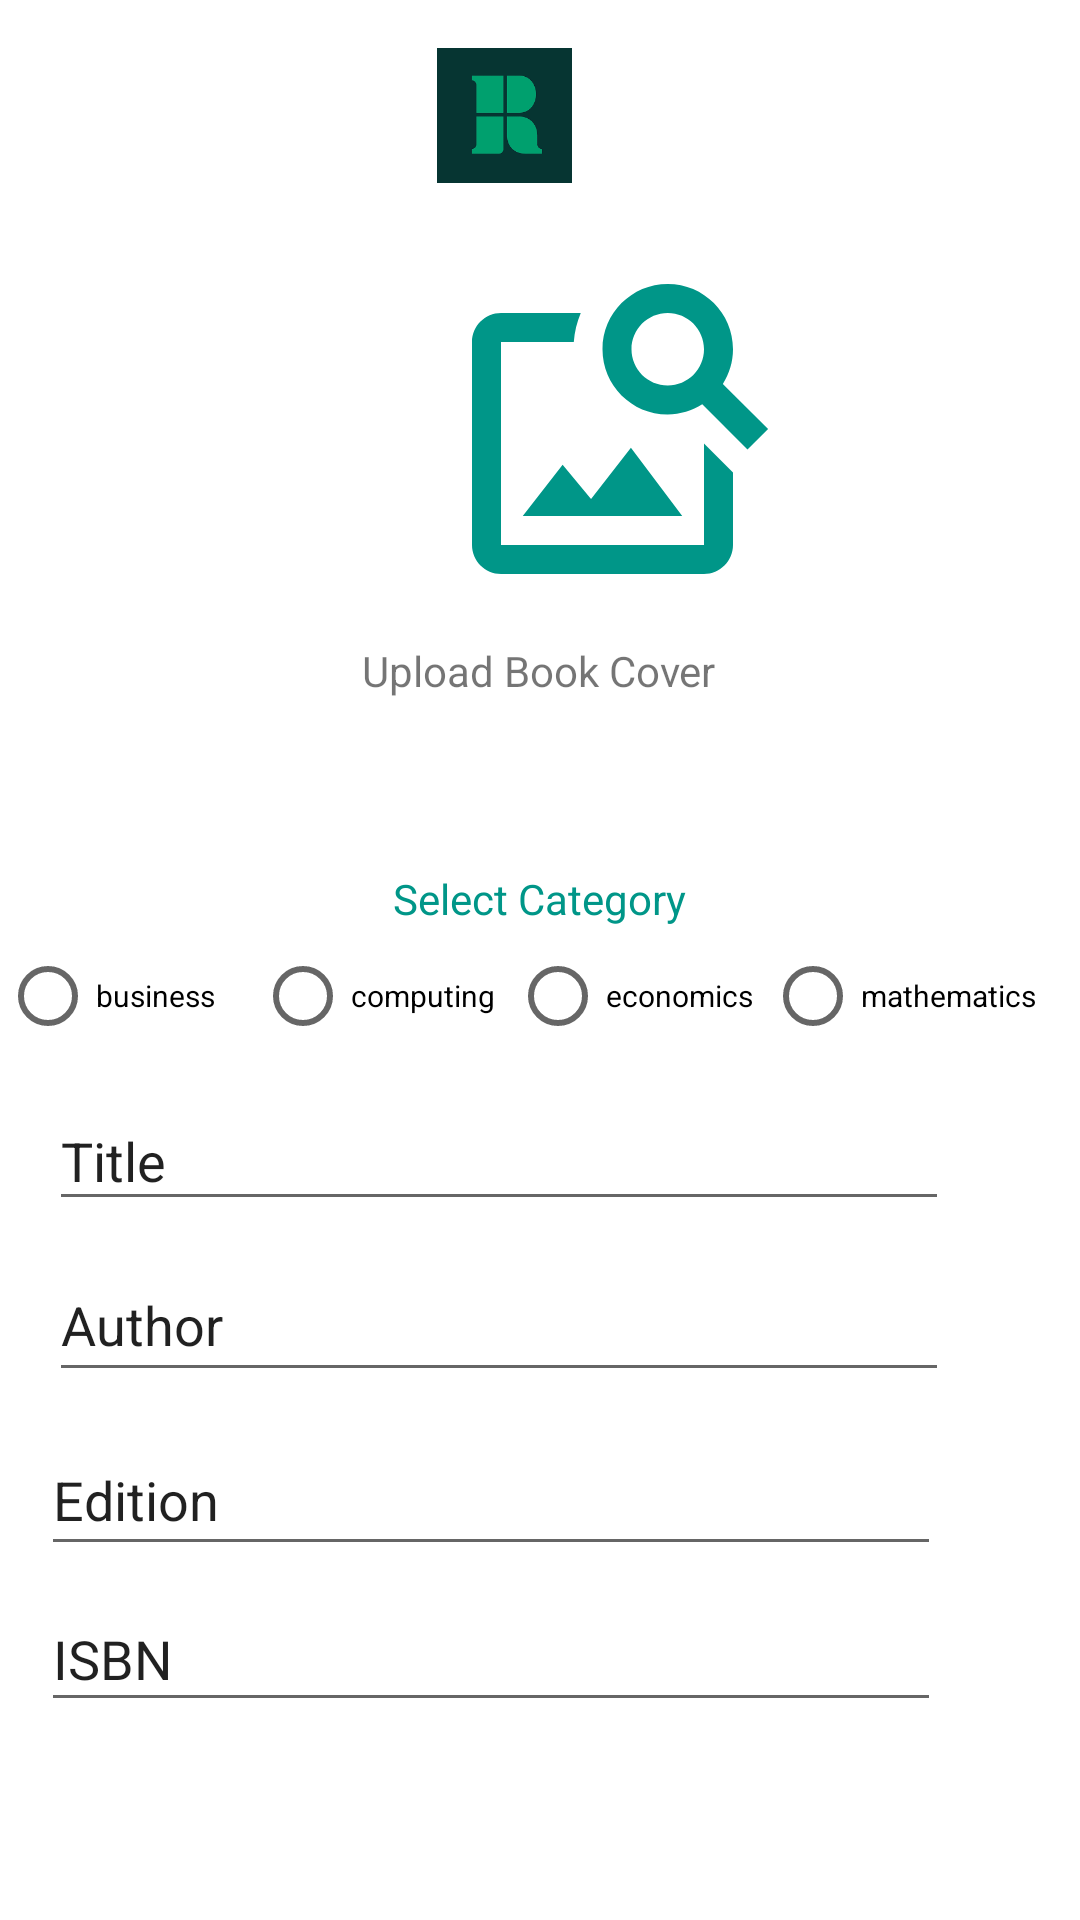

Icon bounding boxes for this 1080px×1920px phone screenshot, format (x1, y1, x2, y2):
search: (472, 284, 768, 574)
